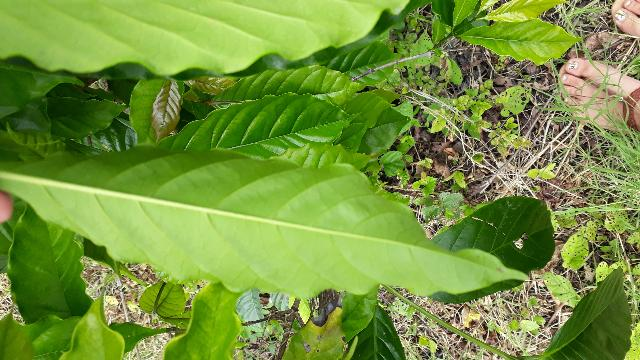healthy: (0, 144, 528, 300)
